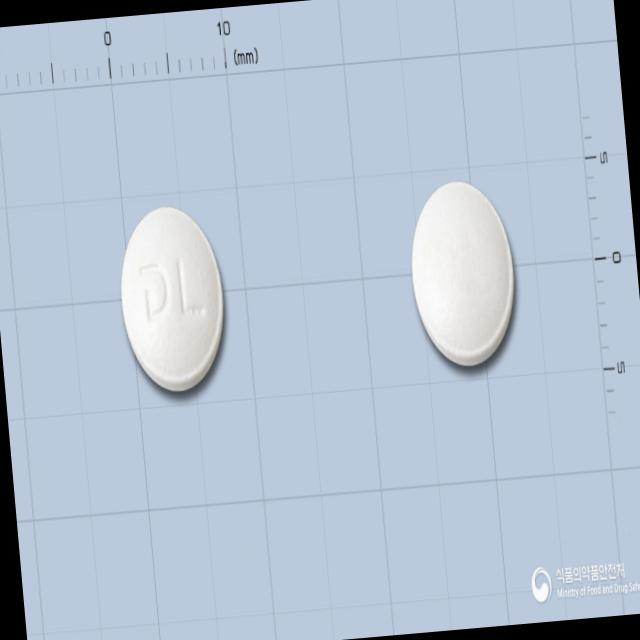Levicin: (114, 200, 232, 398)
